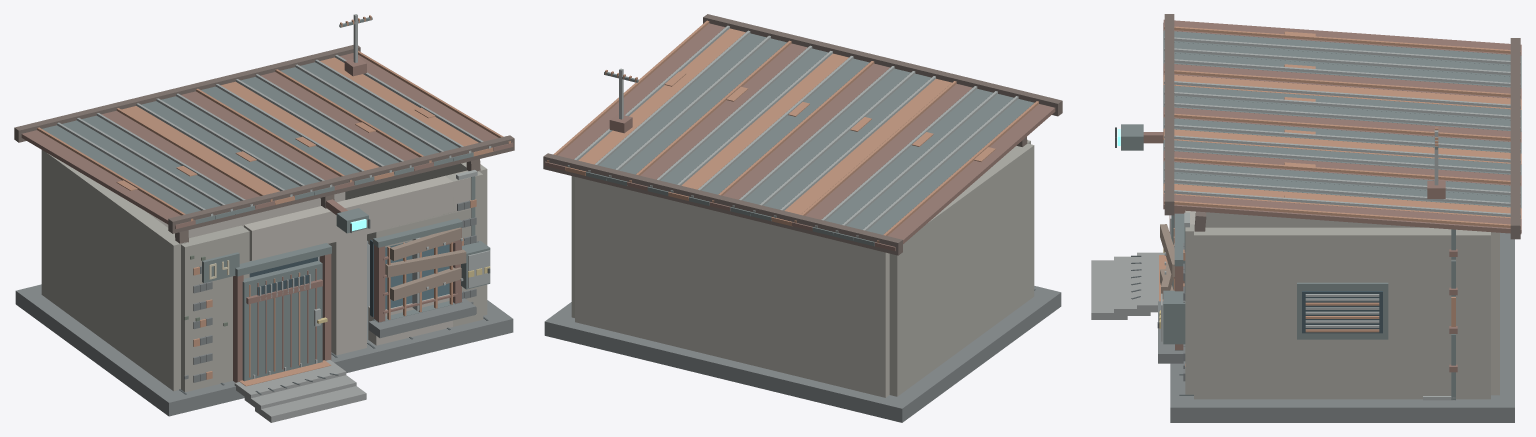
The model's file is SM_Guardhouse04_v1.gltf.
3 views of the same model, side by side, from view 1: azimuth 30°, elevation 25°; view 2: azimuth 150°, elevation 25°; view 3: azimuth 270°, elevation 25° (orthographic). The views are drawn at different scales.
Visible parts, largest first — view 1: Guardhouse|plasterAlt, Guardhouse|metal, Guardhouse|plaster, Guardhouse|rustDark, Guardhouse|rust, Guardhouse|concreteDark, Guardhouse|metalHi, Guardhouse|woodDark, DoorLeaf|metal, Guardhouse|concrete, DoorLeaf|rustDark, Window|wood (+9 smaller); view 2: Guardhouse|plaster, Guardhouse|metal, Guardhouse|plasterAlt, Guardhouse|rustDark, Guardhouse|rust, Guardhouse|concreteDark, Guardhouse|metalHi, Guardhouse|woodDark; view 3: Guardhouse|plasterAlt, Guardhouse|metal, Guardhouse|metalHi, Guardhouse|rust, Guardhouse|rustDark, Guardhouse|concreteDark, Guardhouse|woodDark, Guardhouse|concrete, Guardhouse|void, Guardhouse|plaster, Window|wood, Window|concreteDark (+1 smaller).
Boxes of the visible parts, <box> form: Guardhouse|plasterAlt: <box>41,150,487,392</box>; Guardhouse|metal: <box>42,17,490,289</box>; Guardhouse|plaster: <box>147,176,470,355</box>; Guardhouse|rustDark: <box>21,53,513,228</box>; Guardhouse|rust: <box>37,15,510,379</box>; Guardhouse|concreteDark: <box>15,240,513,416</box>; Guardhouse|metalHi: <box>57,14,491,287</box>; Guardhouse|woodDark: <box>14,45,514,243</box>; DoorLeaf|metal: <box>235,243,331,381</box>; Guardhouse|concrete: <box>234,360,366,422</box>; DoorLeaf|rustDark: <box>233,254,331,382</box>; Window|wood: <box>385,227,466,300</box>; Guardhouse|plaster: <box>575,177,889,397</box>; Guardhouse|metal: <box>585,33,1034,246</box>; Guardhouse|plasterAlt: <box>571,140,1034,396</box>; Guardhouse|rustDark: <box>544,23,1055,251</box>; Guardhouse|rust: <box>547,20,1038,242</box>; Guardhouse|concreteDark: <box>544,286,1061,422</box>; Guardhouse|metalHi: <box>567,25,1018,237</box>; Guardhouse|woodDark: <box>543,14,1062,255</box>; Guardhouse|plasterAlt: <box>1185,212,1490,399</box>; Guardhouse|metal: <box>1121,30,1521,400</box>; Guardhouse|metalHi: <box>1161,37,1520,400</box>; Guardhouse|rust: <box>1163,26,1521,366</box>; Guardhouse|rustDark: <box>1143,19,1521,372</box>; Guardhouse|concreteDark: <box>1170,218,1514,422</box>; Guardhouse|woodDark: <box>1164,14,1520,239</box>; Guardhouse|concrete: <box>1091,252,1164,319</box>; Guardhouse|void: <box>1302,291,1382,333</box>; Guardhouse|plaster: <box>1185,210,1499,395</box>; Window|wood: <box>1160,224,1174,298</box>; Window|concreteDark: <box>1158,301,1183,363</box>.
Bounding box in the file's own units: 6.85 × 4.57 × 6.59.
